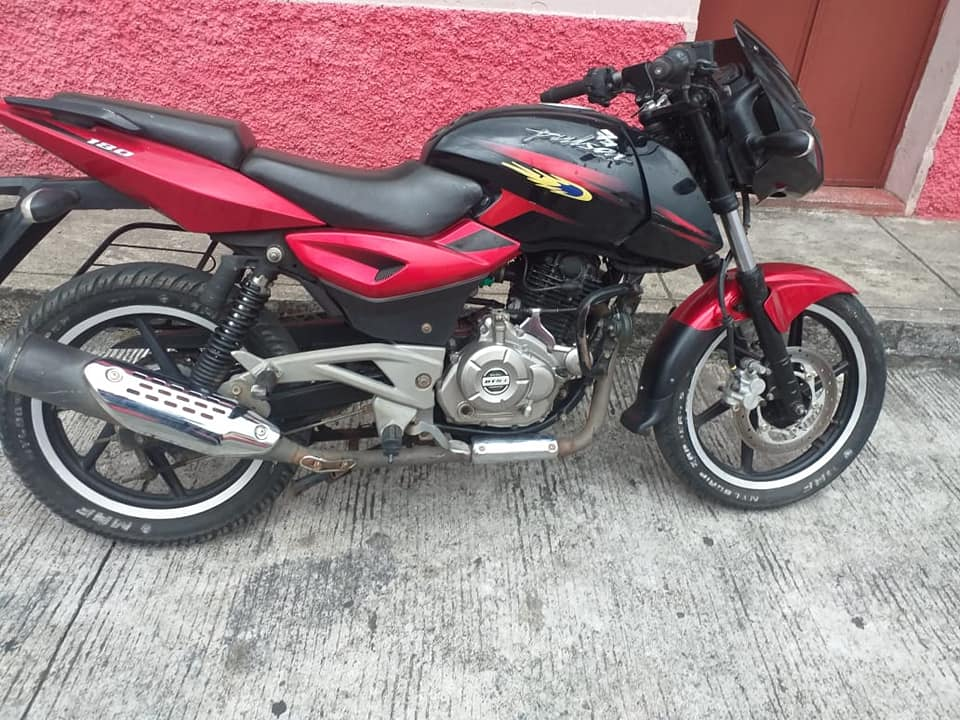moto: (1, 23, 885, 548)
